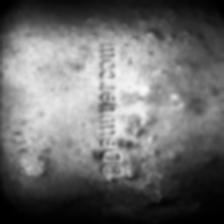Non-Cancerous Skin Condition: (121, 170, 136, 182), (117, 140, 133, 150), (134, 89, 148, 99)
